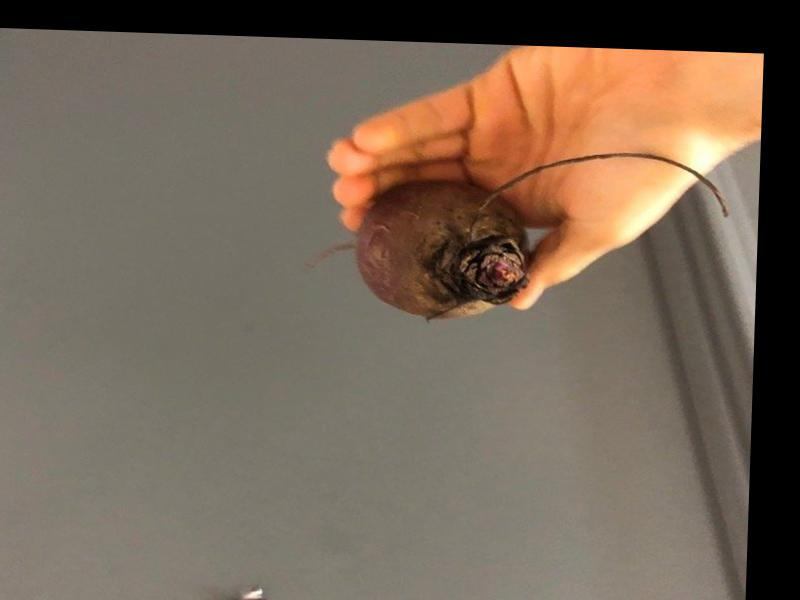Beet: (309, 141, 728, 327)
